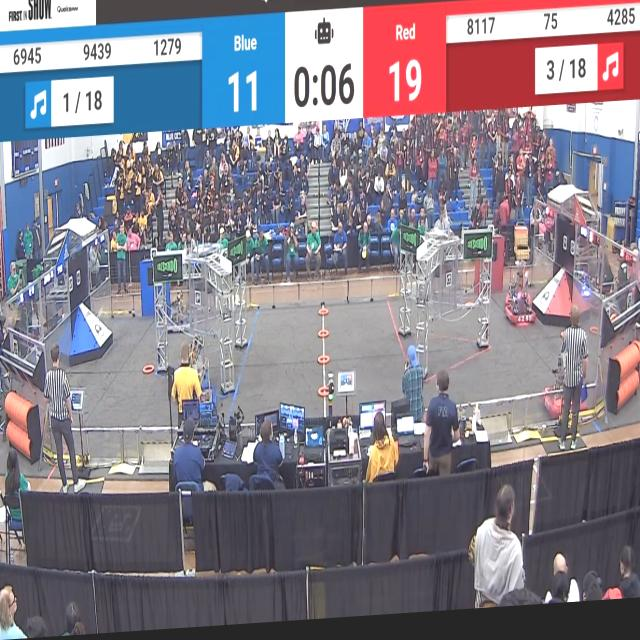Robot: (542, 335, 590, 434), (503, 262, 538, 344), (162, 287, 196, 343), (499, 268, 534, 321), (199, 367, 216, 424)
